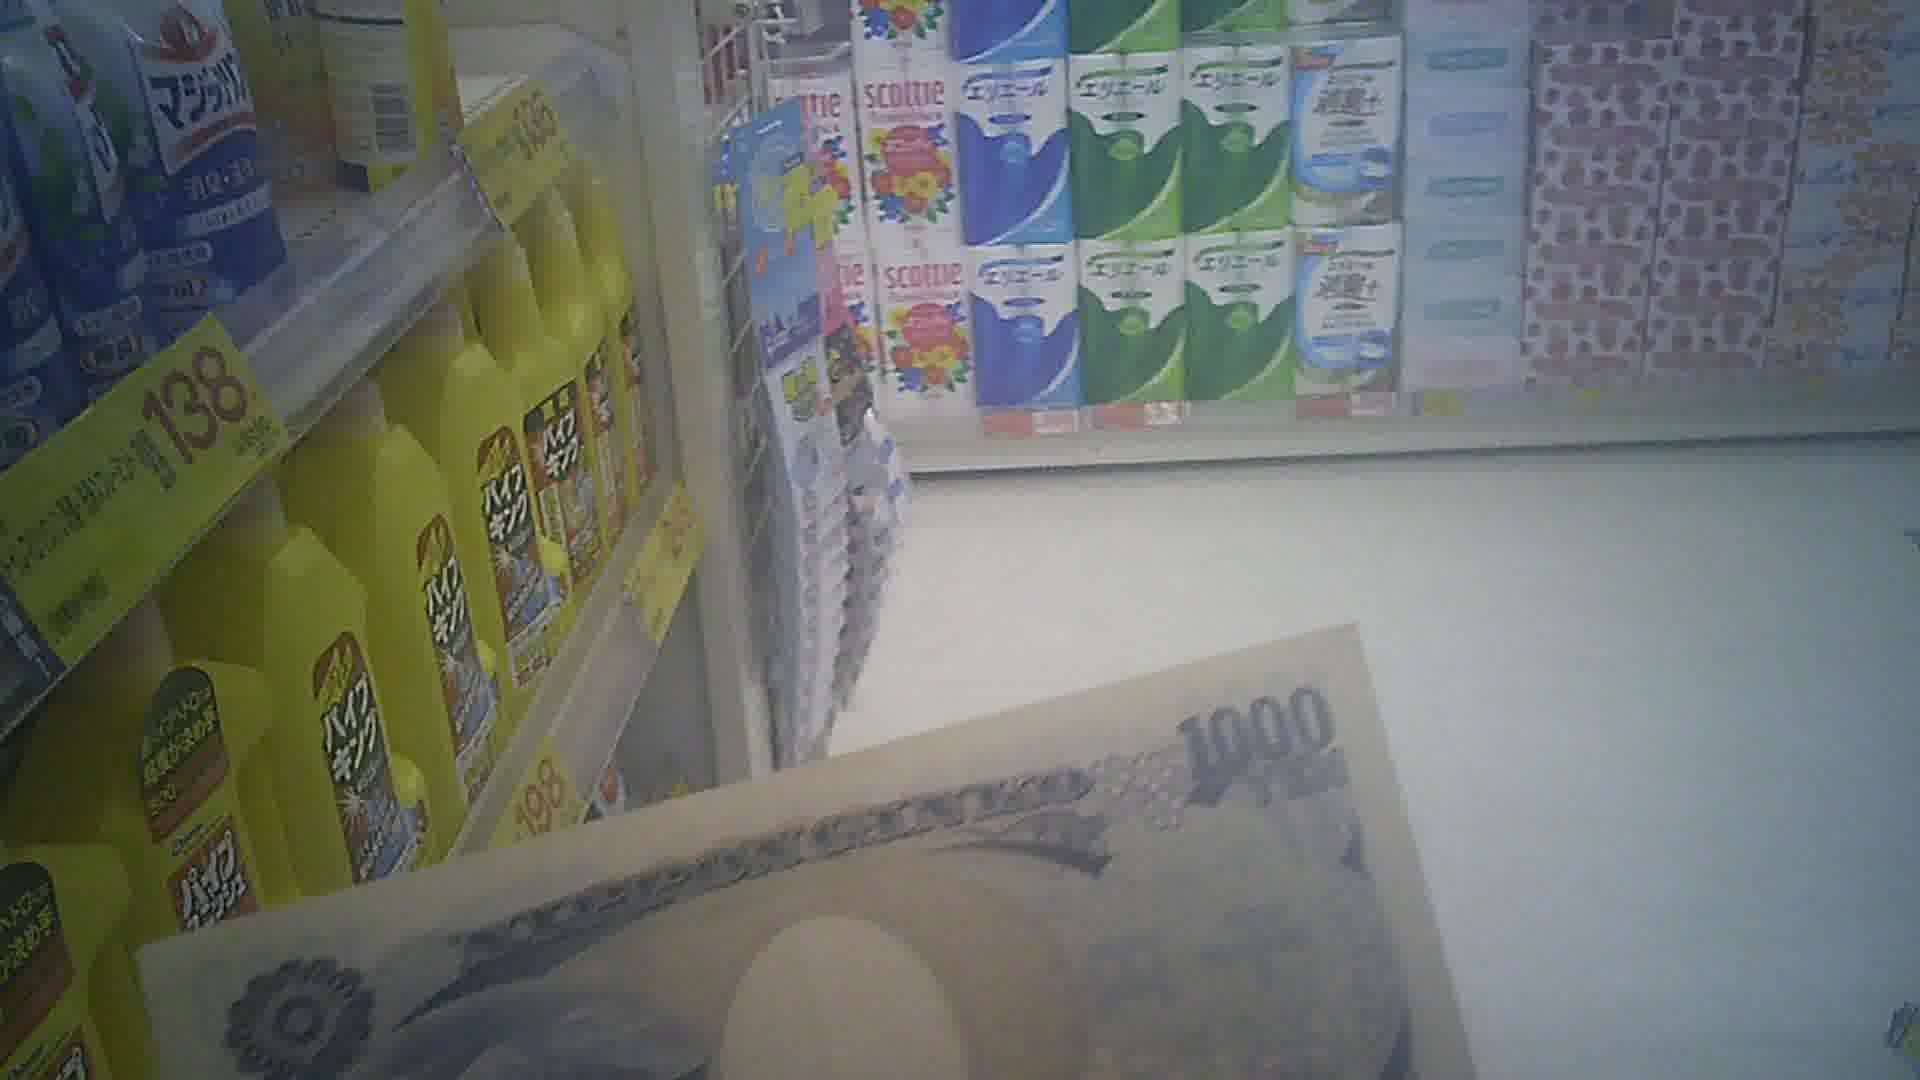1,000 Yen: (140, 618, 1443, 1079)
